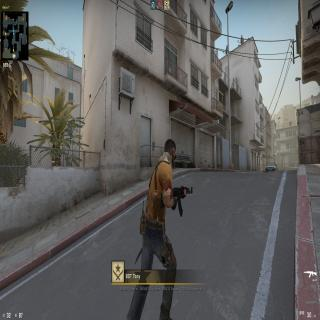T-Head: (164, 134, 177, 172)
